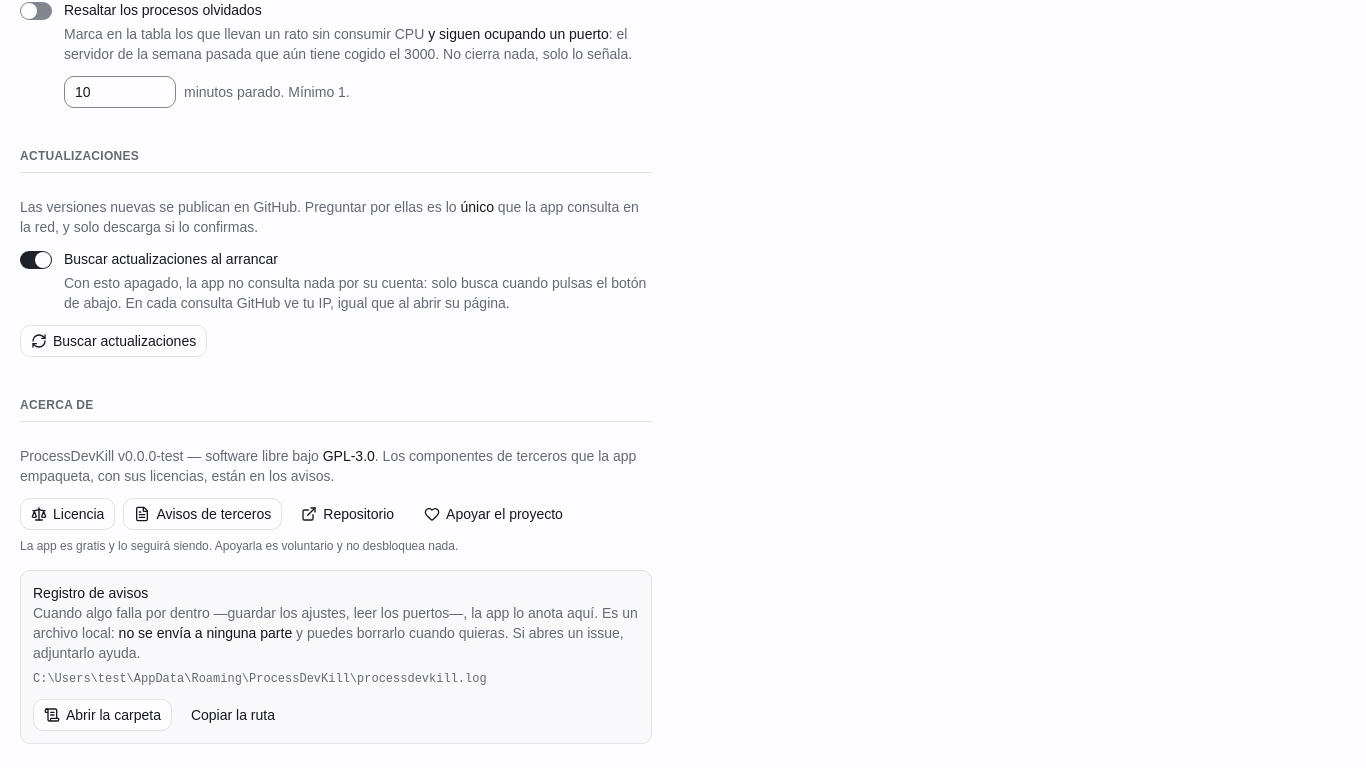
Test: cuando Windows no deja abrir o copiar algo › la carpeta del log
(page scrolled)
expect the text "processdevkill.log" is shown: met, box [33,672,487,686]
Click the button "Abrir la carpeta". click: x=102, y=715
box: [33,699,172,731]
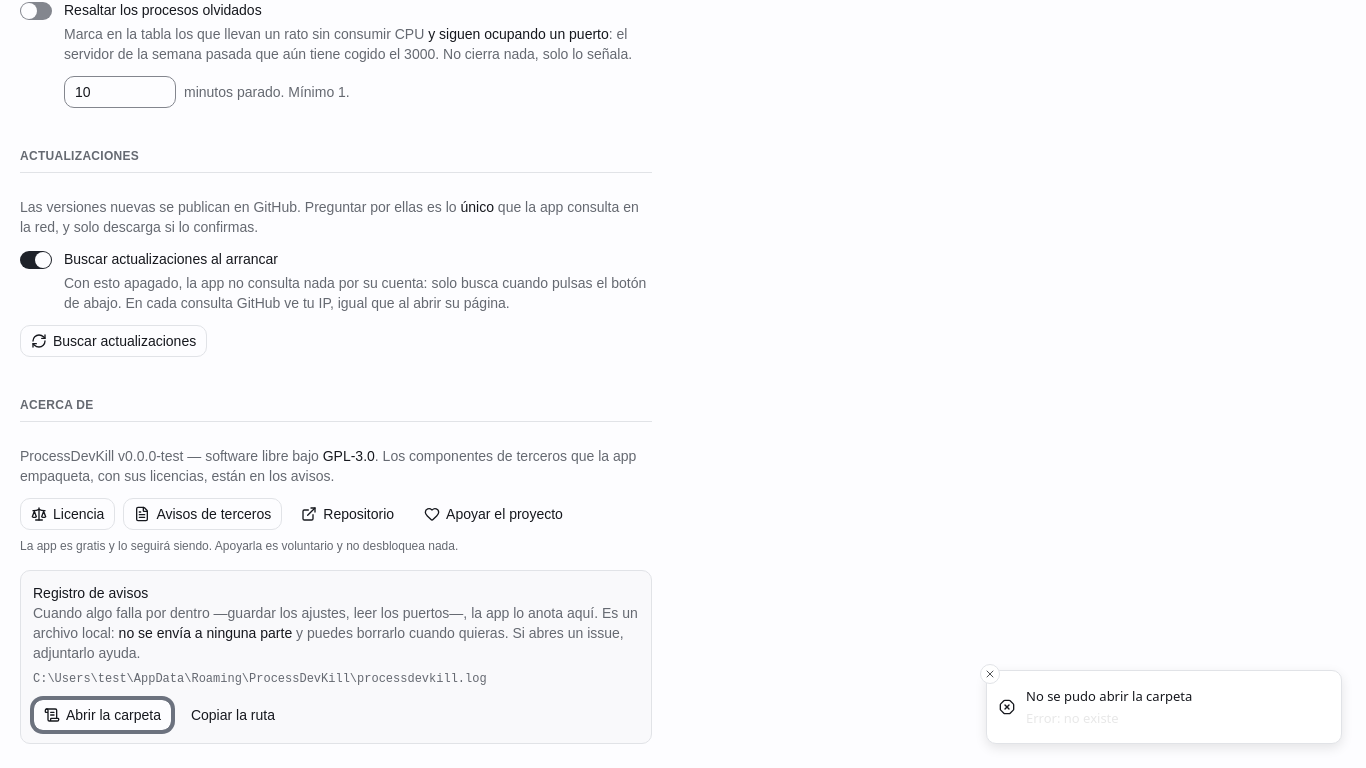
expect the text "No se pudo abrir la carpeta" is shown: met, box [1026,687,1192,707]
